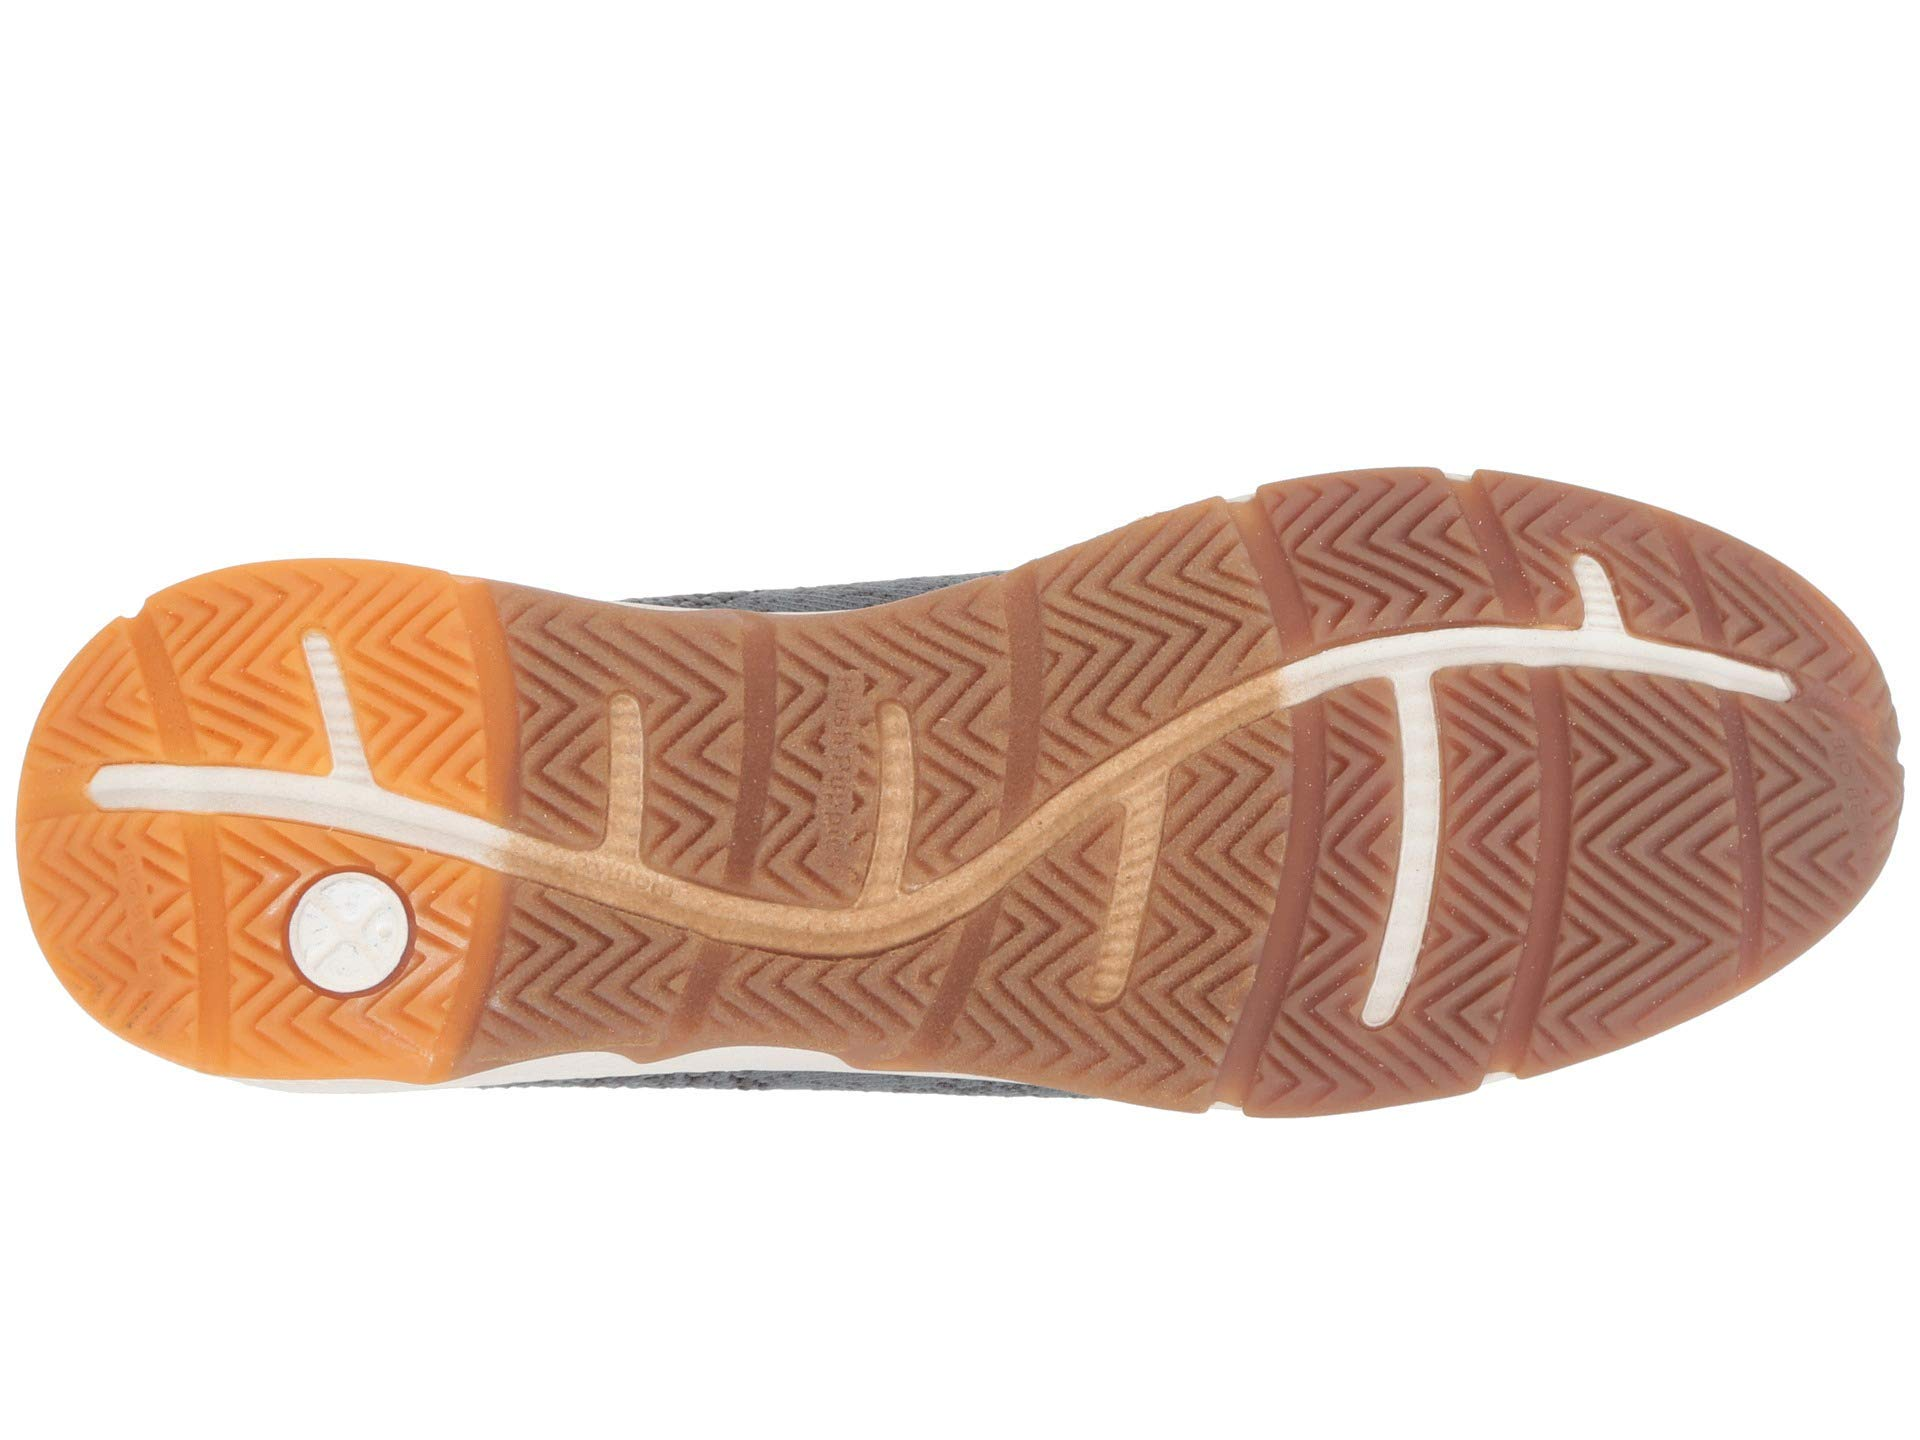chevron: (1185, 746, 1778, 982), (1268, 464, 1474, 623)
circle: (283, 876, 408, 994)
line: (1185, 746, 1778, 982), (1383, 632, 1680, 666)
text: (815, 667, 856, 903)
